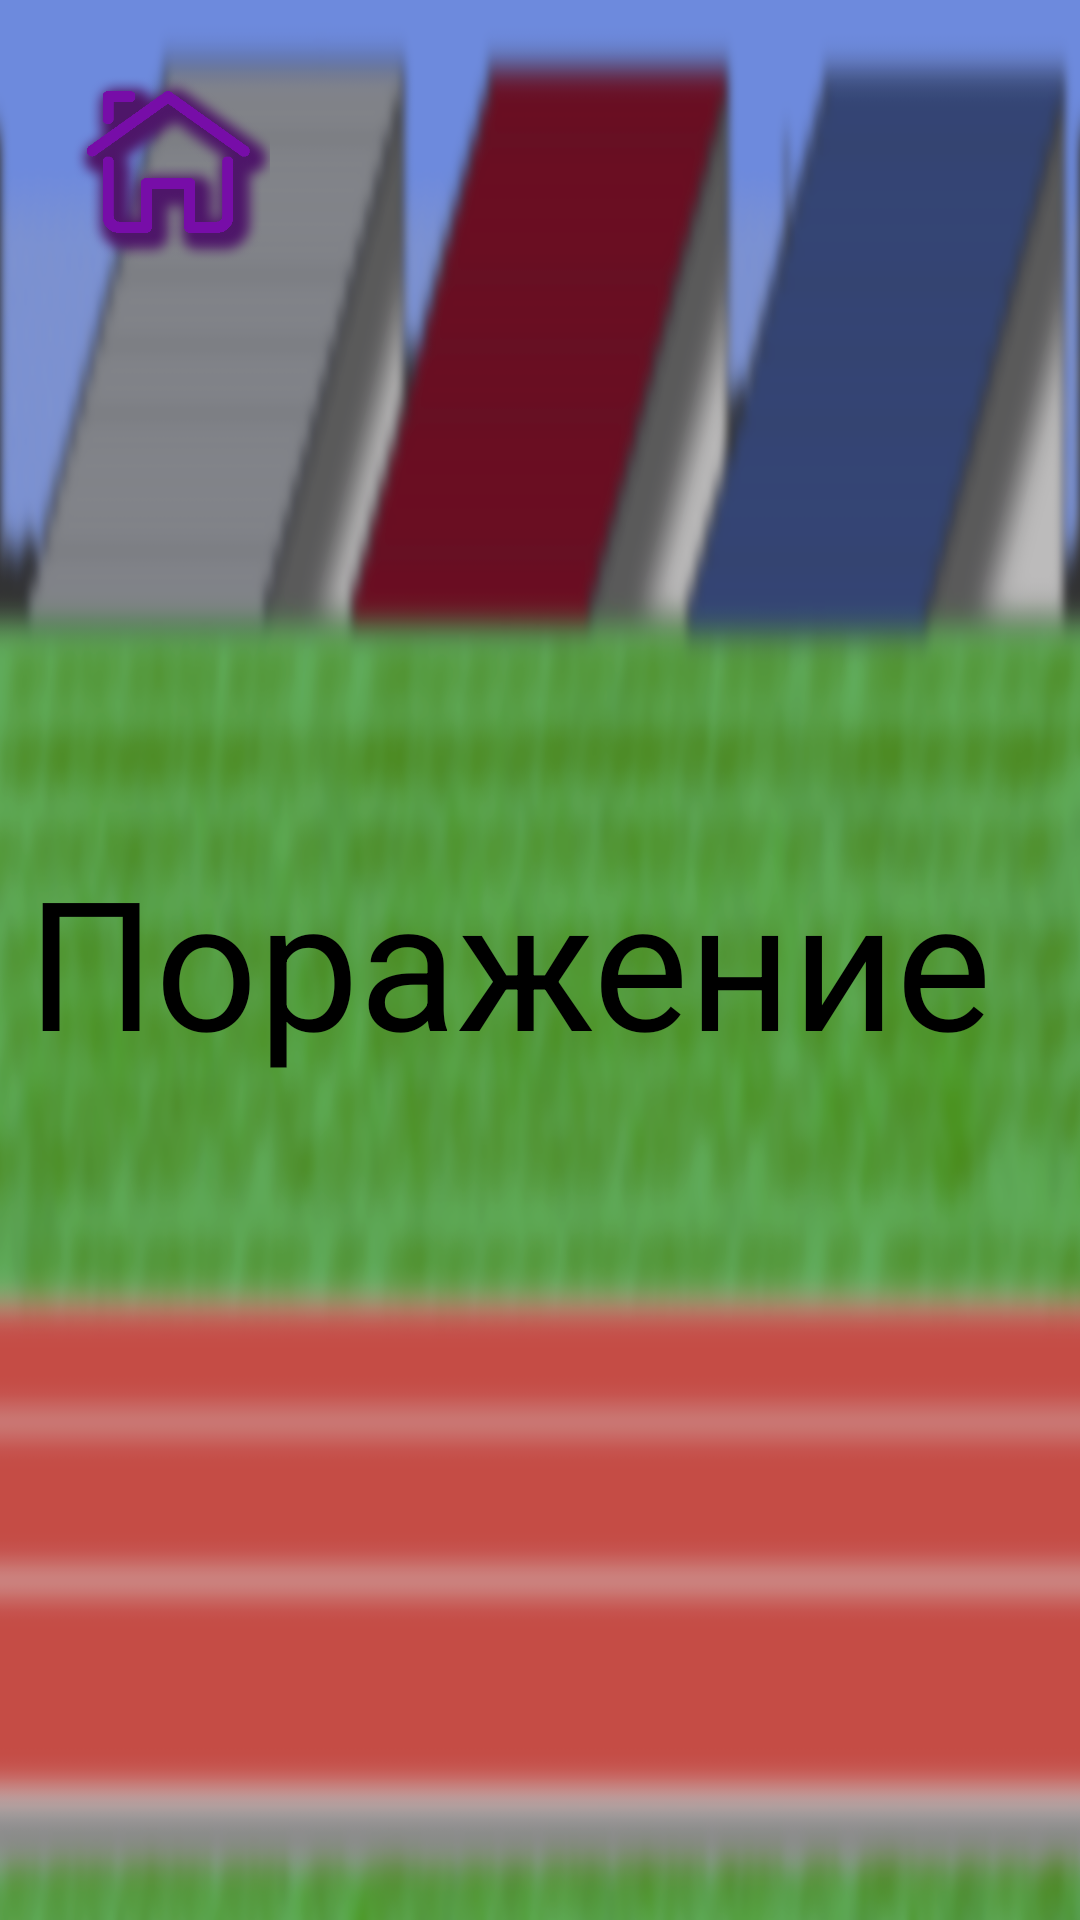

Icons on this 1080x1920 Android screen, each with the point to tap as (x,y):
gotomenu: (168,162)
